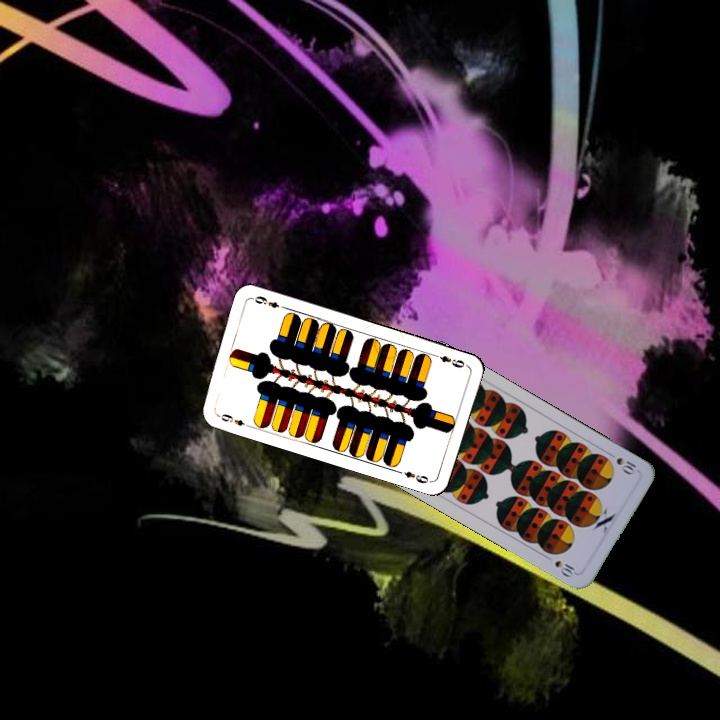E9: (429, 350, 469, 371), (213, 410, 252, 430)
S10: (612, 453, 640, 478)
